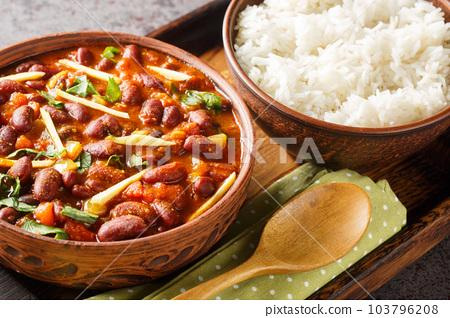rajma: (0, 41, 219, 241)
rice: (242, 3, 450, 118)
